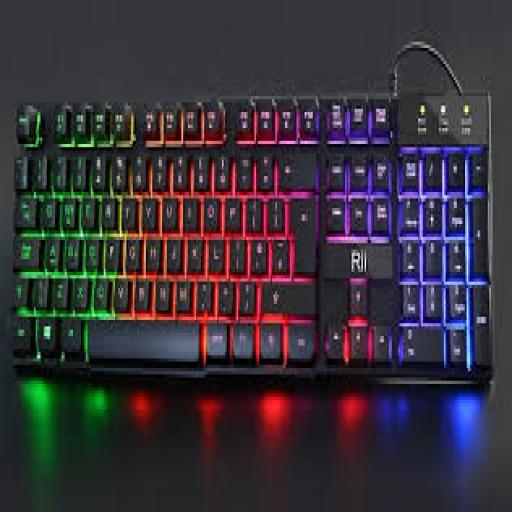keyboard: (10, 93, 494, 381)
